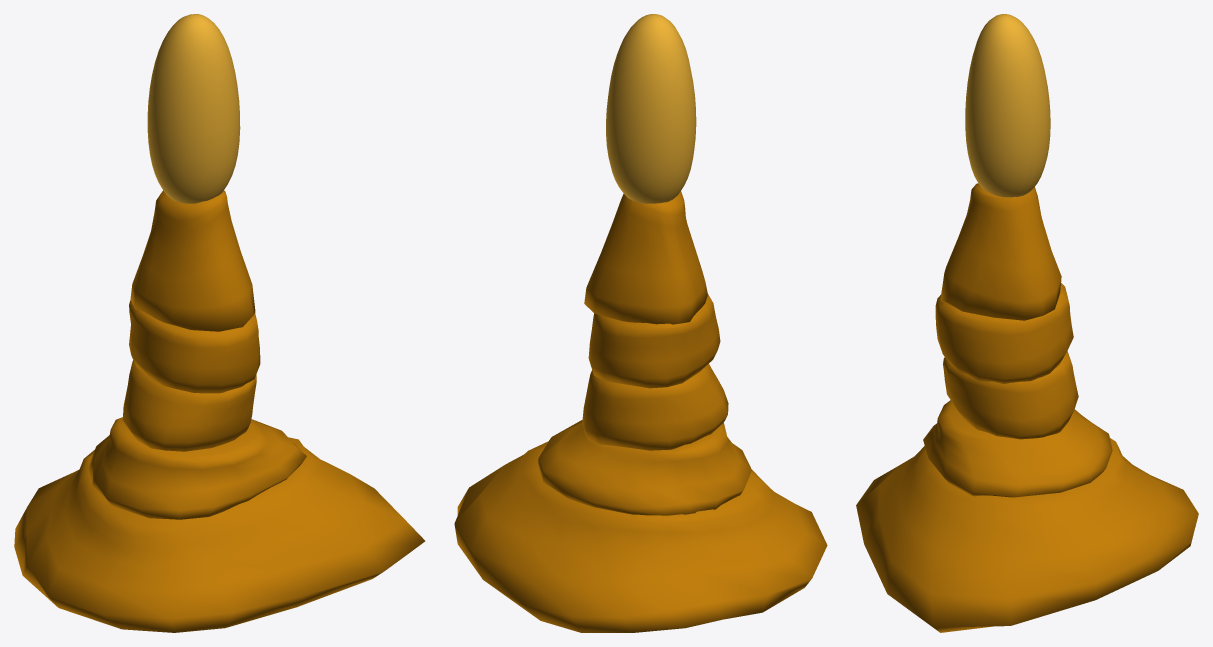
Rendered from checkpoint.fbx.
3 renders of one model, left to right at view 1: azimuth 30°, elevation 25°; view 2: azimuth 150°, elevation 25°; view 3: azimuth 270°, elevation 25°, orthographic. The views are drawn at different scales.
Parts seen in each view (by area): view 1: checkpoint; view 2: checkpoint; view 3: checkpoint.
Part boxes in pixels (x1,y1,x2,y2): checkpoint: (14,14,425,632); checkpoint: (454,14,827,632); checkpoint: (856,14,1198,632).
Bounding box in the file's own units: 0.6717 × 1.02 × 0.5976.
